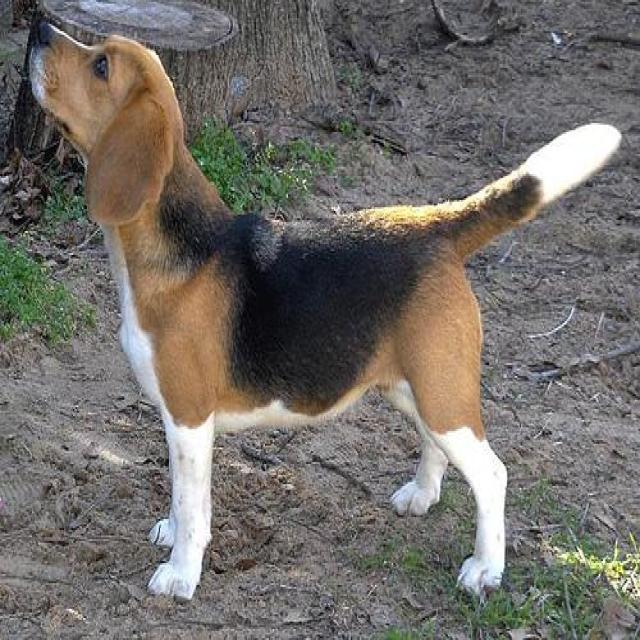beagle: (26, 20, 624, 602)
